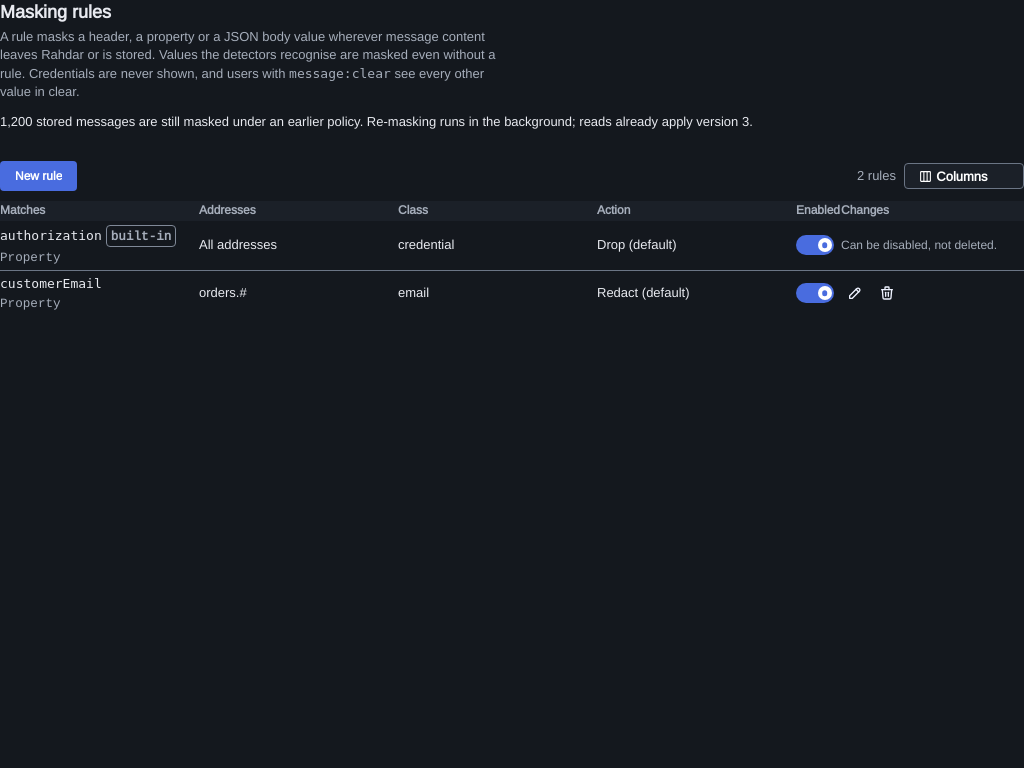
RulesPanel › validates the name on blur and posts the rule
Click the button "New rule" at (39, 176), box [0,161,77,191]
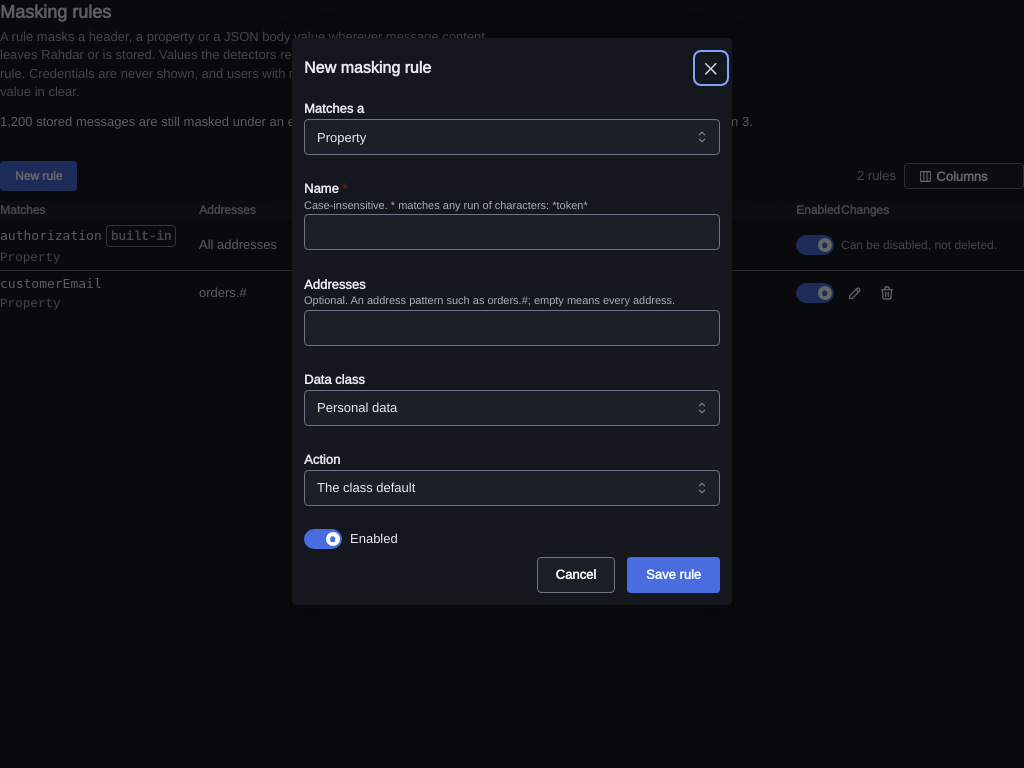
Click the field labelled "Name *" at (512, 232), box [304,214,720,250]
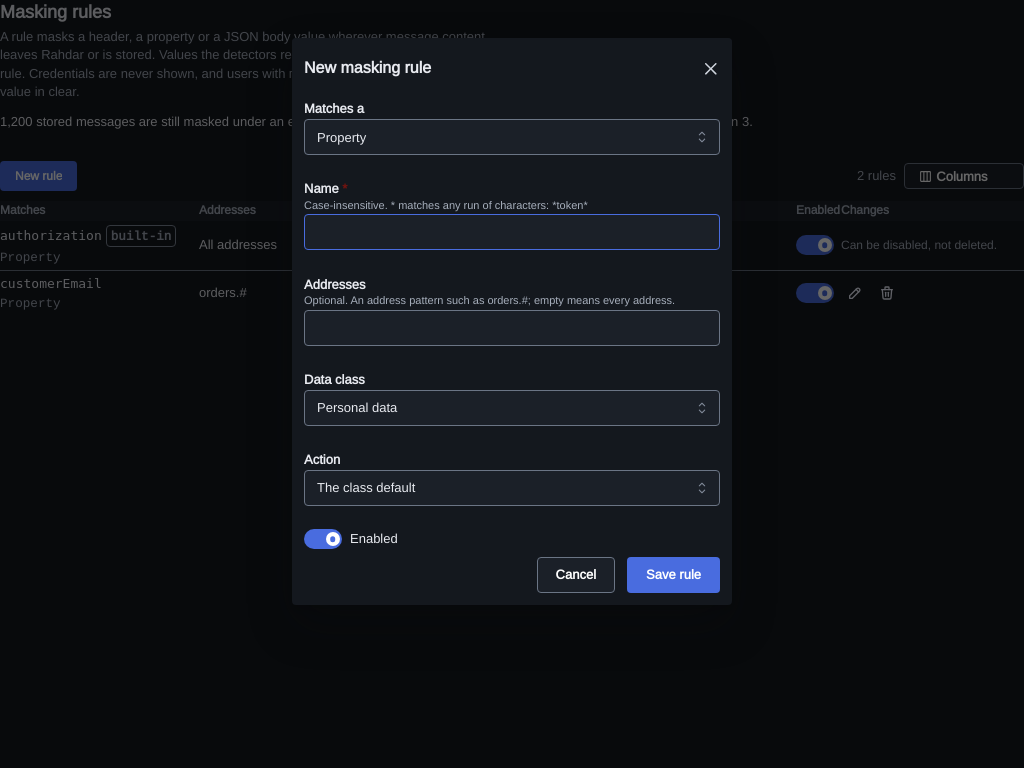
Press Tab
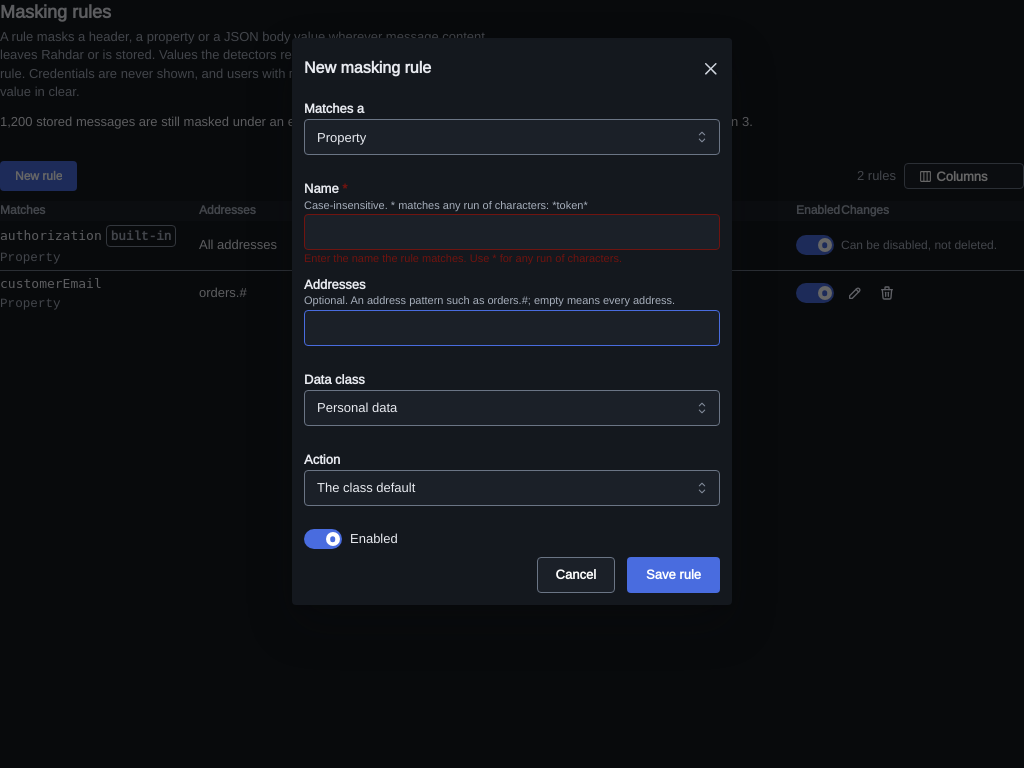
Check: the text "Enter the name the rule matches" is shown, box [304,252,622,266]
Type "customerName" into the field labelled "Name *" at (512, 232), box [304,214,720,250]
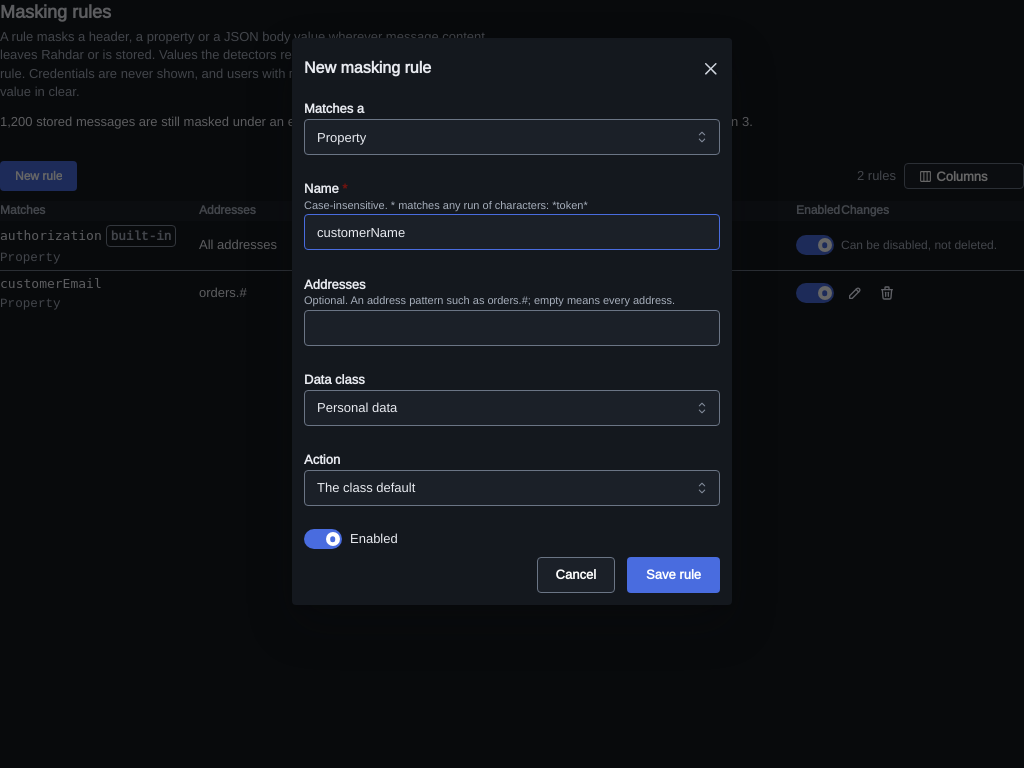
Type "orders.#" into the field labelled "Addresses" at (512, 328), box [304,310,720,346]
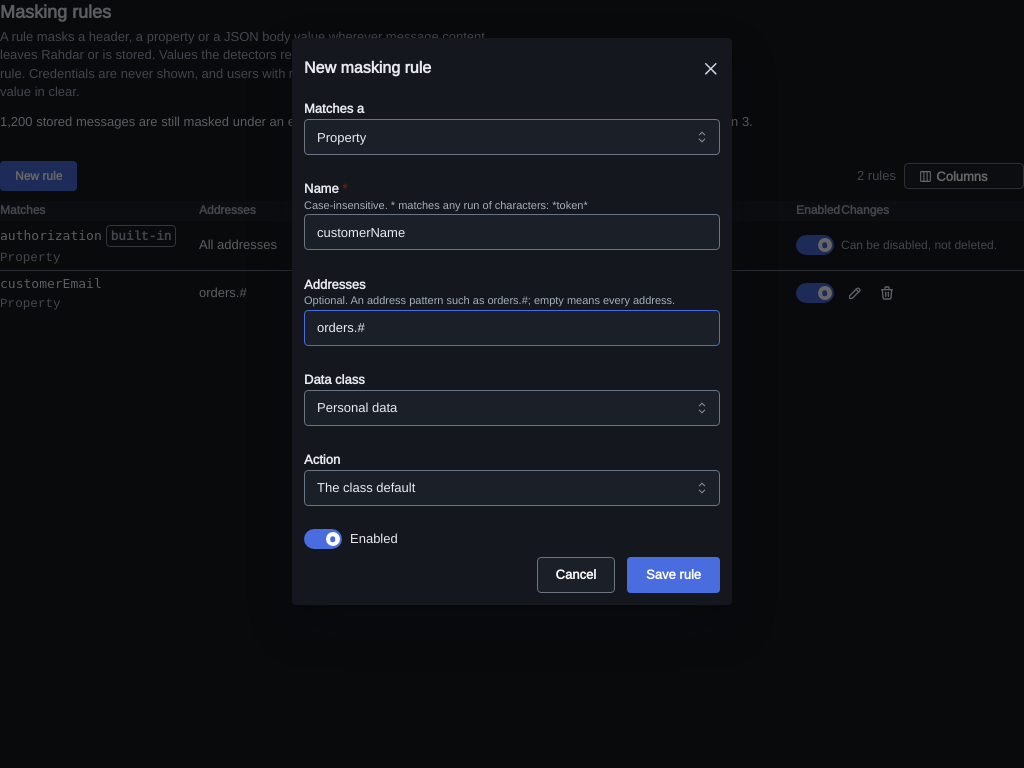
Click the button "Save rule" at (674, 575), box [627,557,720,593]
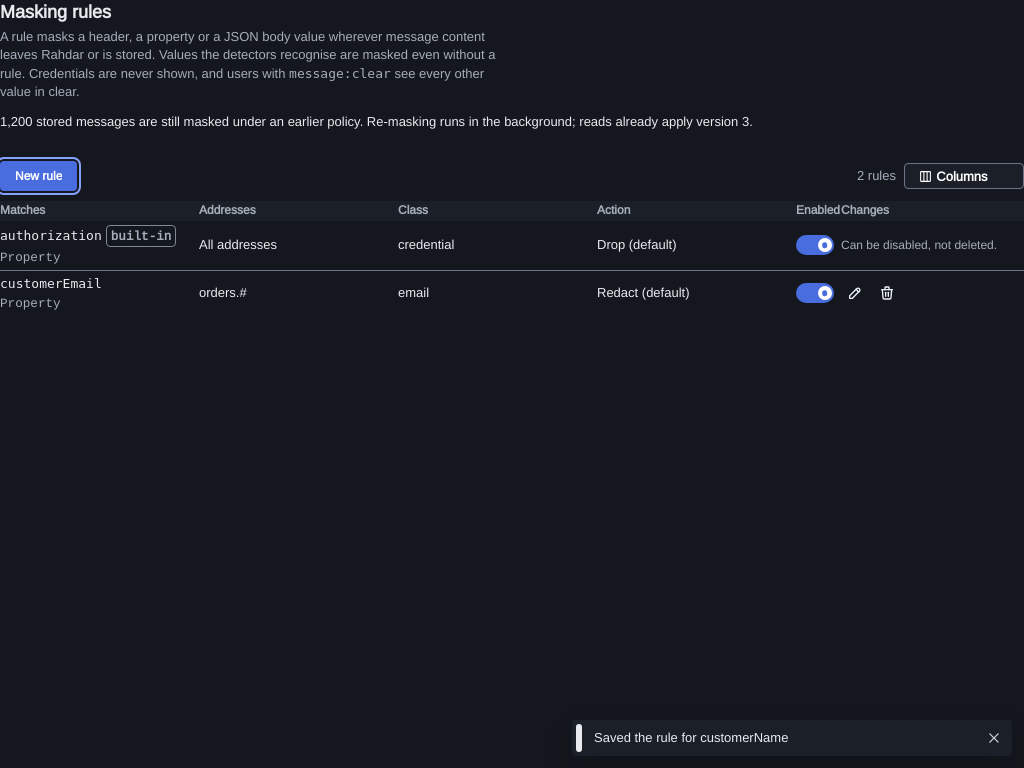
Check: the text "Saved the rule for customerName" is shown, box [594,729,788,746]
